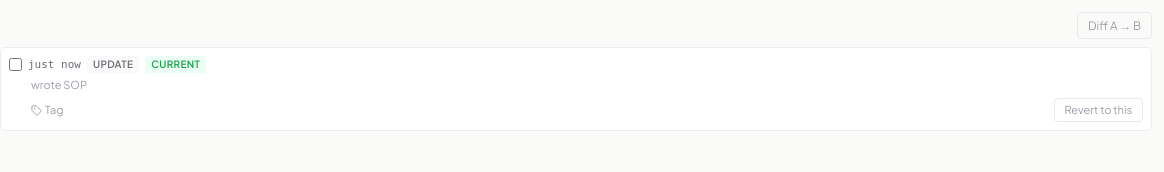
VersionsTab (058-A) › F6: tag button opens inline input; invalid label shows error and blocks save
Expected: the list item with test id "versions-row" is shown, [0,47,1152,131]
Step 1. Click the button with test id "versions-row-tag-button" → (47, 110), box [31,102,64,118]
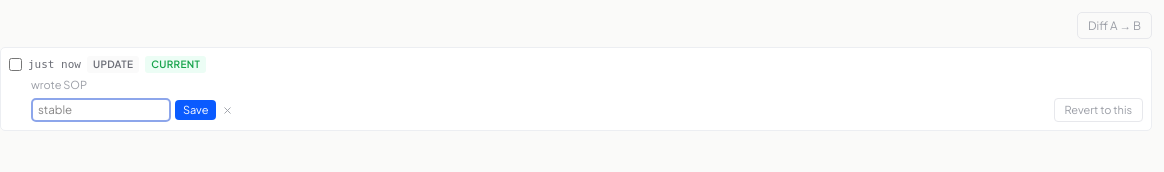
Step 2. Type "not valid!" into the field with test id "versions-row-tag-input" → (101, 110), box [31,98,171,122]
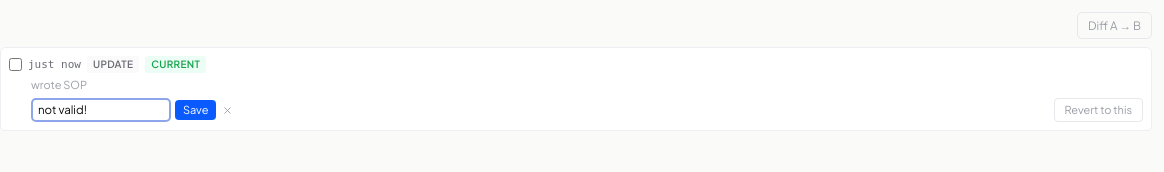
Step 3. Click the button with test id "versions-row-tag-save" → (196, 110), box [175,100,216,120]
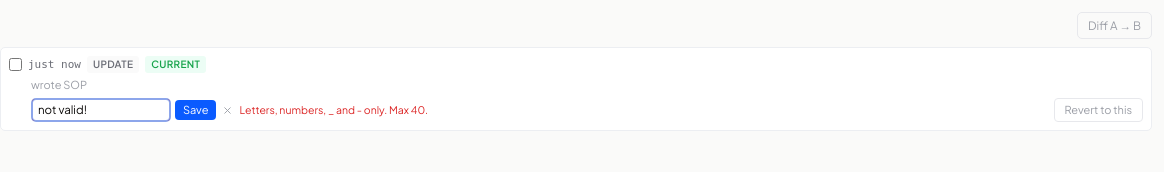
Expected: the text "Letters, numbers, _ and - only. Max 40." is shown, [239,102,428,118]
